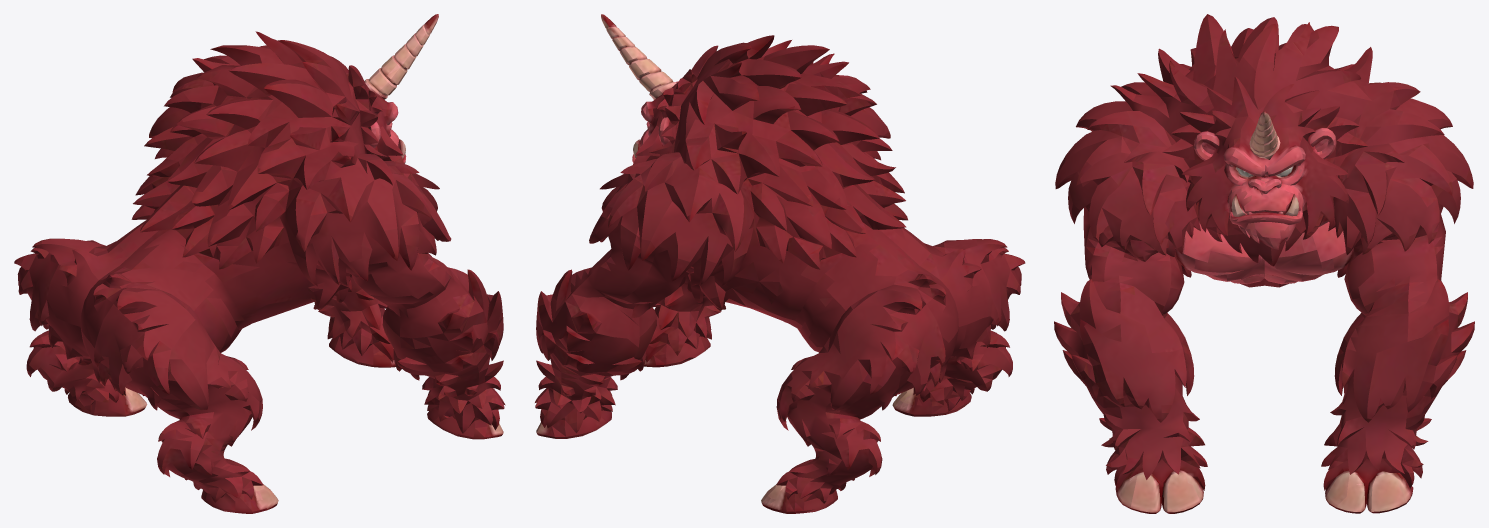
File: gorlicorn.glb
3 views of the same model, side by side, from view 1: azimuth 30°, elevation 25°; view 2: azimuth 150°, elevation 25°; view 3: azimuth 270°, elevation 25° (orthographic). The views are drawn at different scales.
Parts seen in each view (by area): view 1: Object_01; view 2: Object_01; view 3: Object_01.
Part boxes in pixels (left/top/right/bottom): Object_01: left=14, top=14, right=505, bottom=513; Object_01: left=535, top=14, right=1025, bottom=513; Object_01: left=1054, top=14, right=1474, bottom=513.
Size of the model in its own units: 2.55 by 2.5 by 2.33.
1 material, 1 textured.
